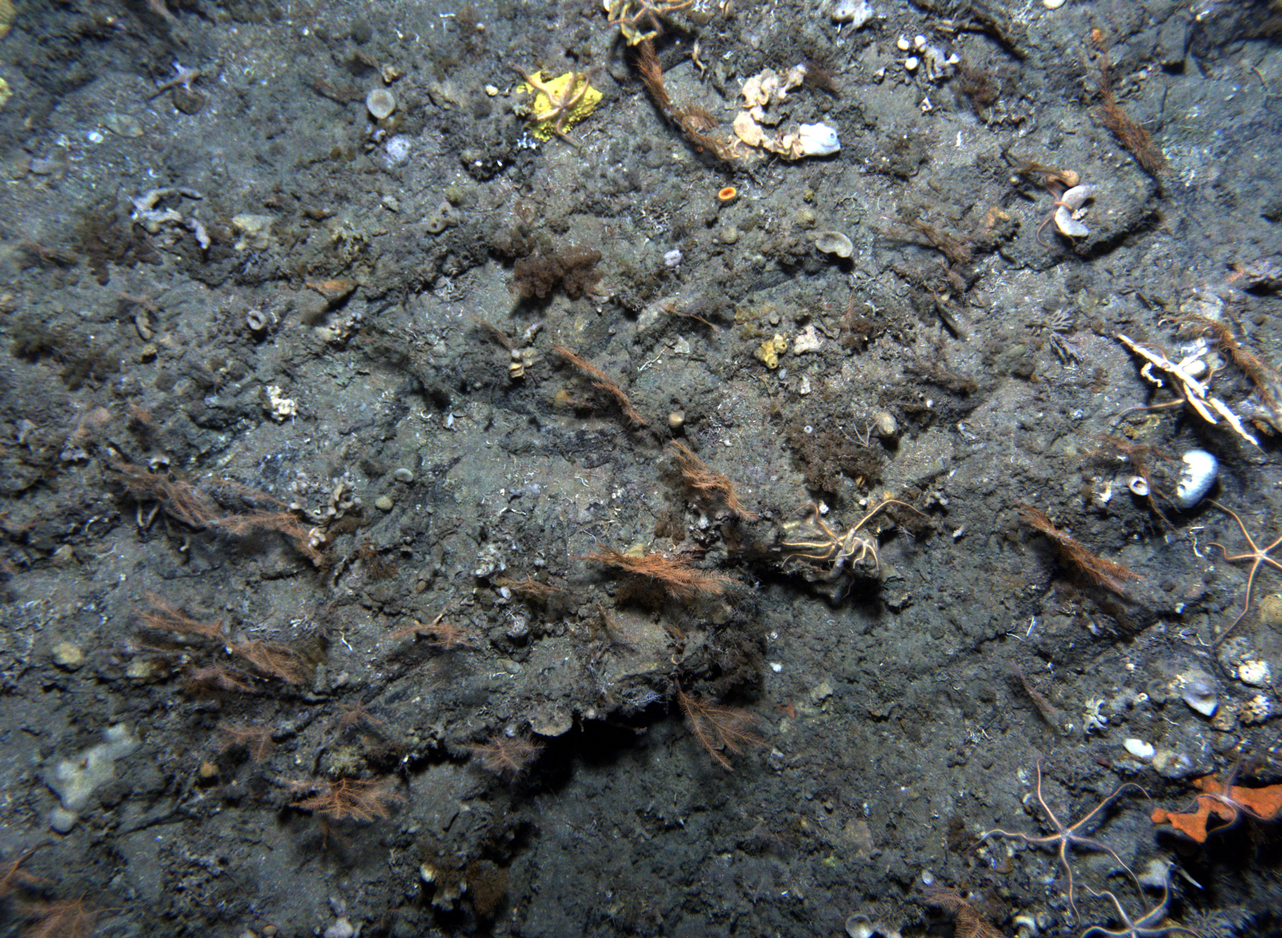Brachionichthyidae: (144, 58, 205, 103)
